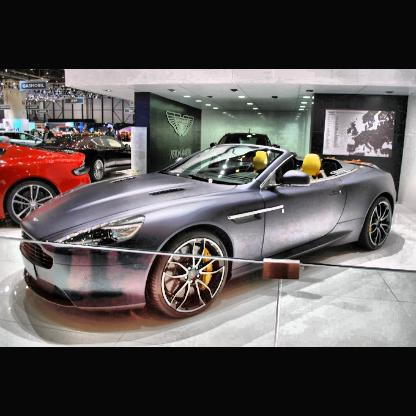Aston Martin Virage Convertible 2012: (20, 143, 398, 319)
